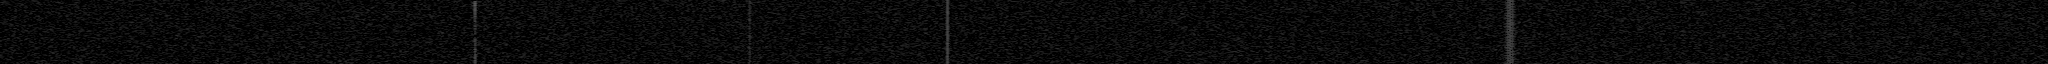wv_am: (946, 0, 950, 64)
wv_cw: (747, 0, 752, 64)
wv_usb: (472, 0, 478, 64)
wv_wbfm: (1502, 0, 1518, 64)
